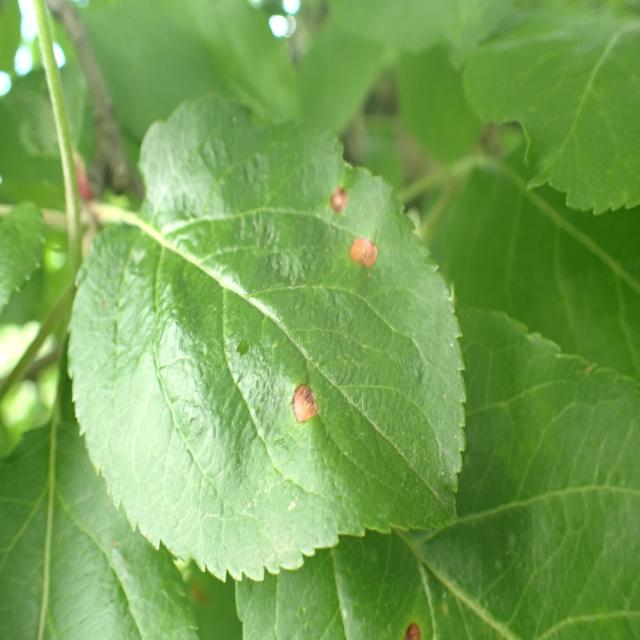Black Rot: (310, 142, 362, 258), (280, 384, 338, 441), (341, 223, 388, 272), (402, 595, 424, 640)
